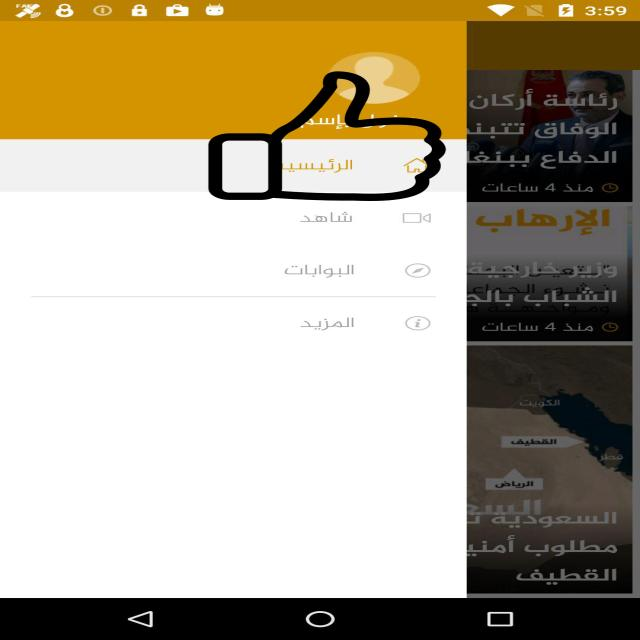privacy zuckering: (205, 71, 449, 201)
